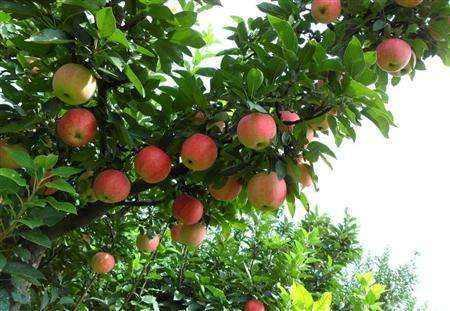apple: (50, 61, 98, 105), (55, 107, 97, 148), (246, 171, 286, 210), (236, 112, 277, 150), (375, 37, 414, 73), (94, 168, 131, 204), (182, 135, 218, 171), (135, 148, 171, 184), (172, 194, 204, 226), (312, 1, 340, 23)
